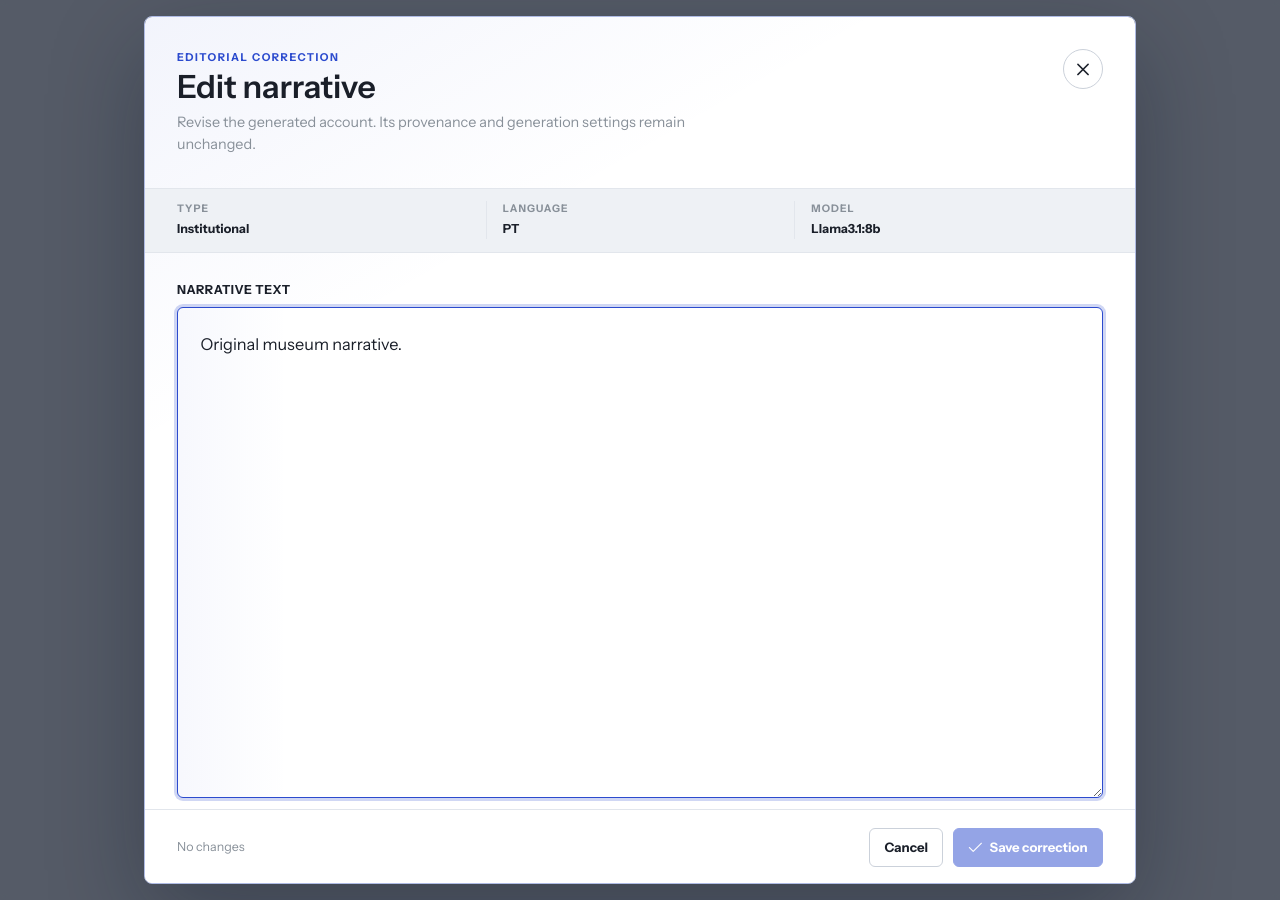
Test: EditInSituVisitNarrativeDialogComponent › preserves the draft and presents the API error when saving fails
Replace the text in the text box with id "narrative-editor-text" with "A correction that must be preserved." at (640, 553), box [177,307,1103,798]
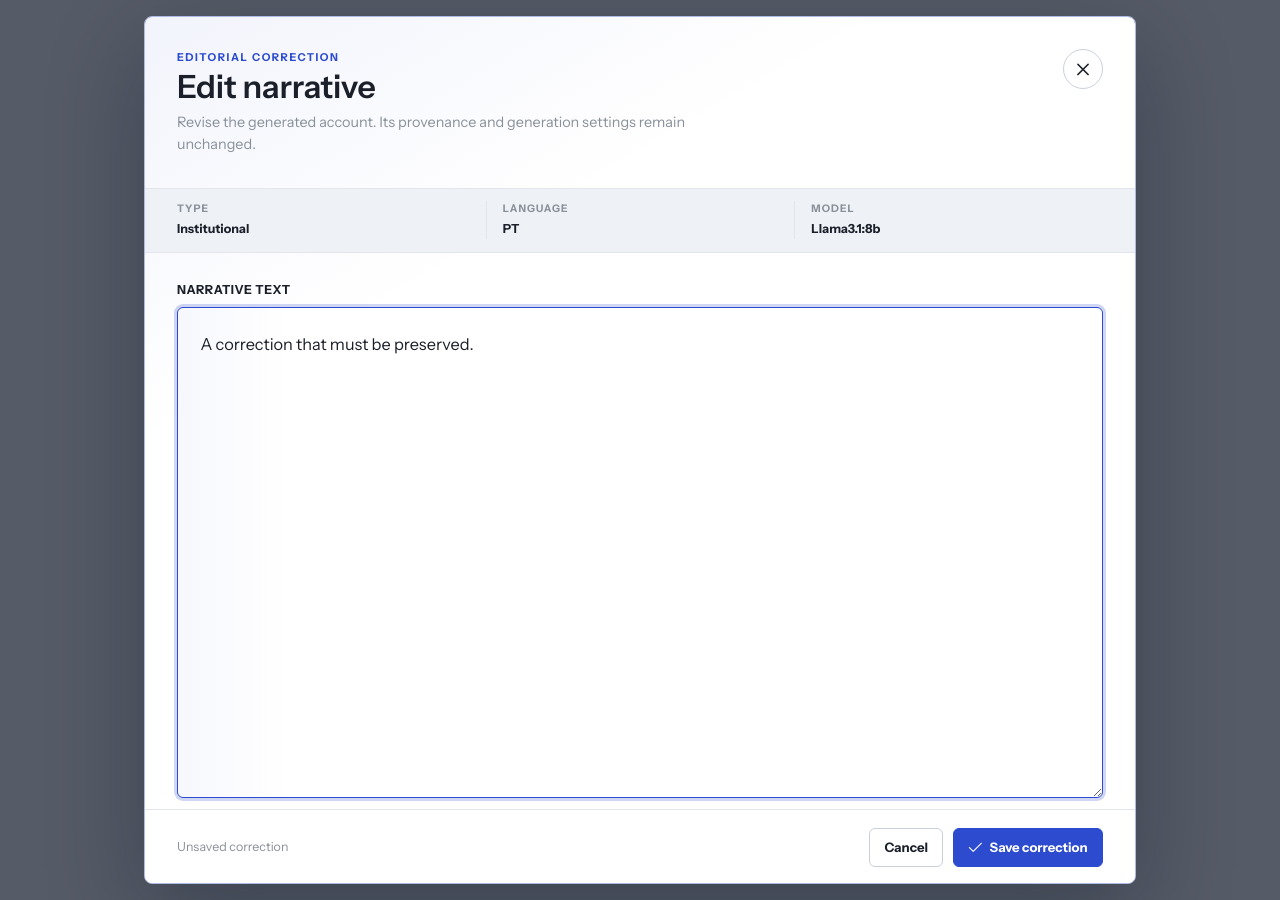
Click the submit button at (1028, 848), box [953,828,1103,867]
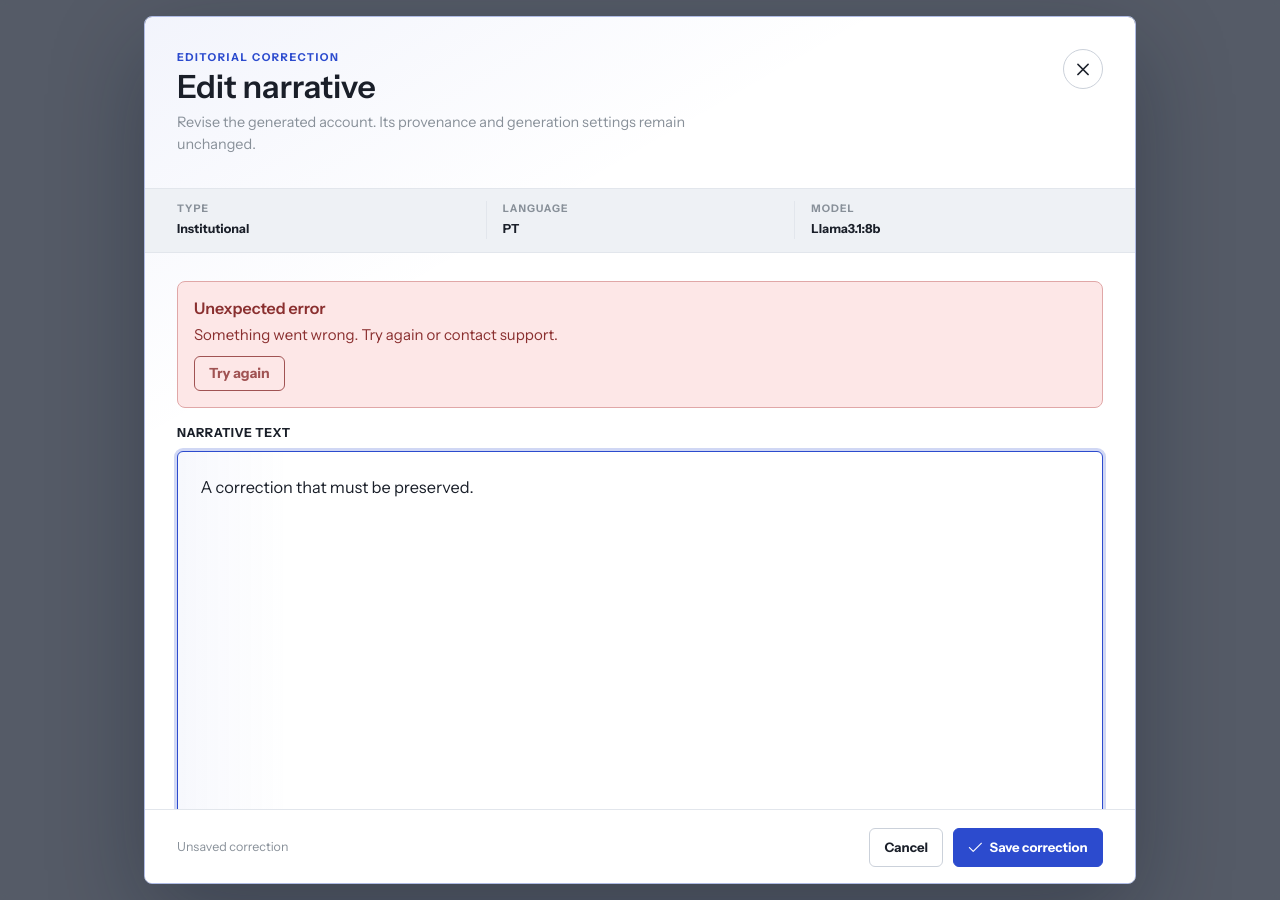
Now the text "Unexpected error" is shown, box [194,298,326,318]
